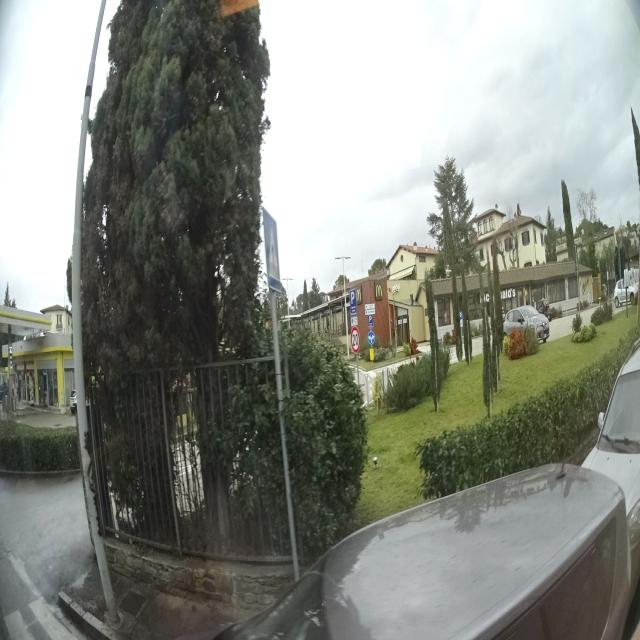car: (502, 304, 550, 342), (69, 387, 78, 415)
